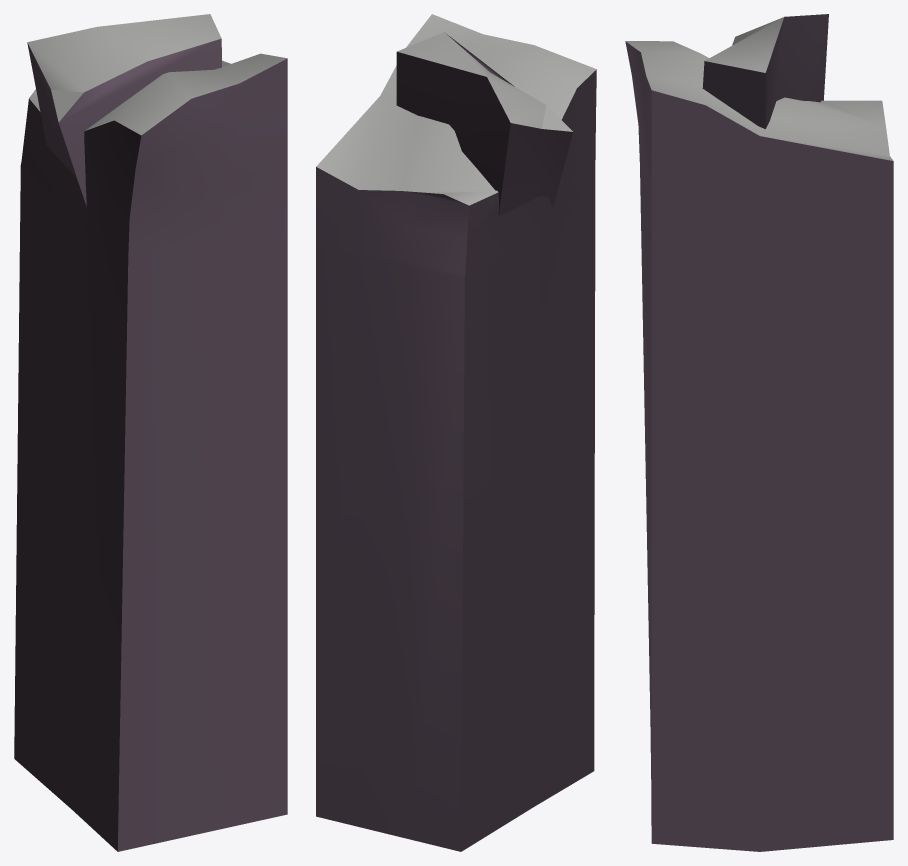
Rendered from env01_cliff_right01.FBX.
3 renders of one model, left to right at view 1: azimuth 30°, elevation 25°; view 2: azimuth 150°, elevation 25°; view 3: azimuth 270°, elevation 25°, orthographic. The views are drawn at different scales.
Parts seen in each view (by area): view 1: env01_cliff_right01; view 2: env01_cliff_right01; view 3: env01_cliff_right01.
Boxes of the visible parts, left/top/right/bottom form: env01_cliff_right01: left=14, top=14, right=287, bottom=851; env01_cliff_right01: left=316, top=14, right=596, bottom=851; env01_cliff_right01: left=625, top=14, right=893, bottom=851.
Bounding box in the file's own units: 236 × 928 × 291.
